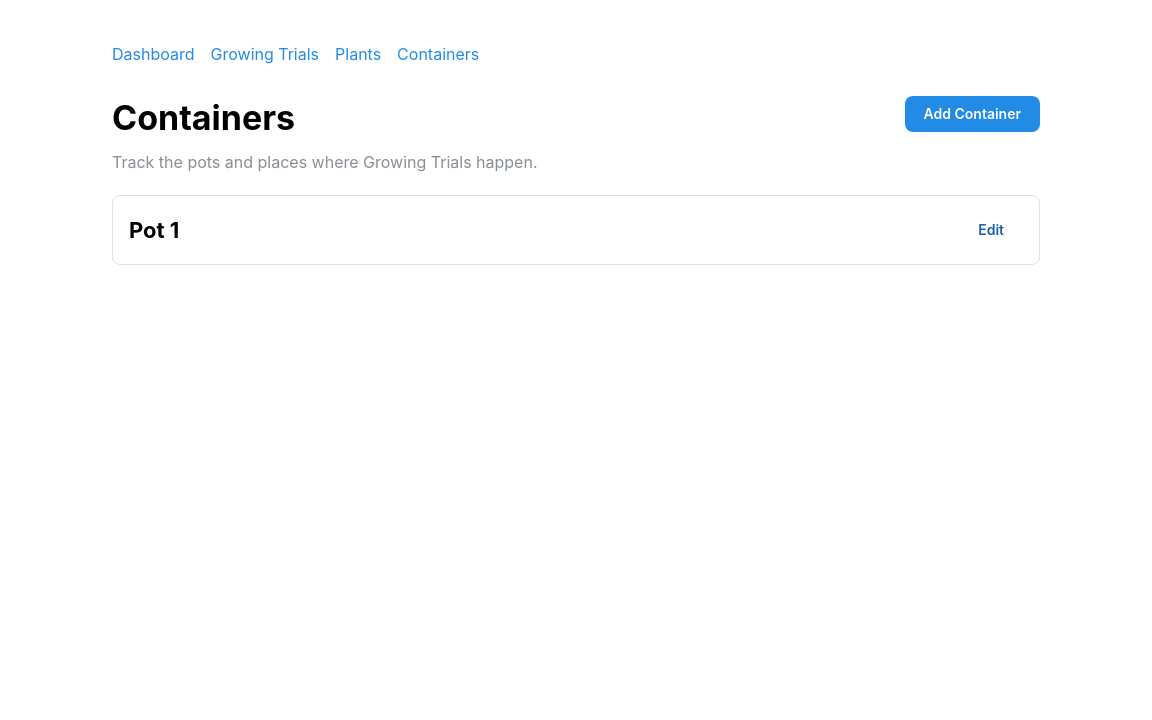
ContainersPage › opens the edit modal with the selected Container name
The image size is (1152, 720).
Check: the heading "Pot 1" is shown, box [129,215,179,245]
Click the button with aria-label "Edit Pot 1" at [991, 230], box [959,212,1023,248]
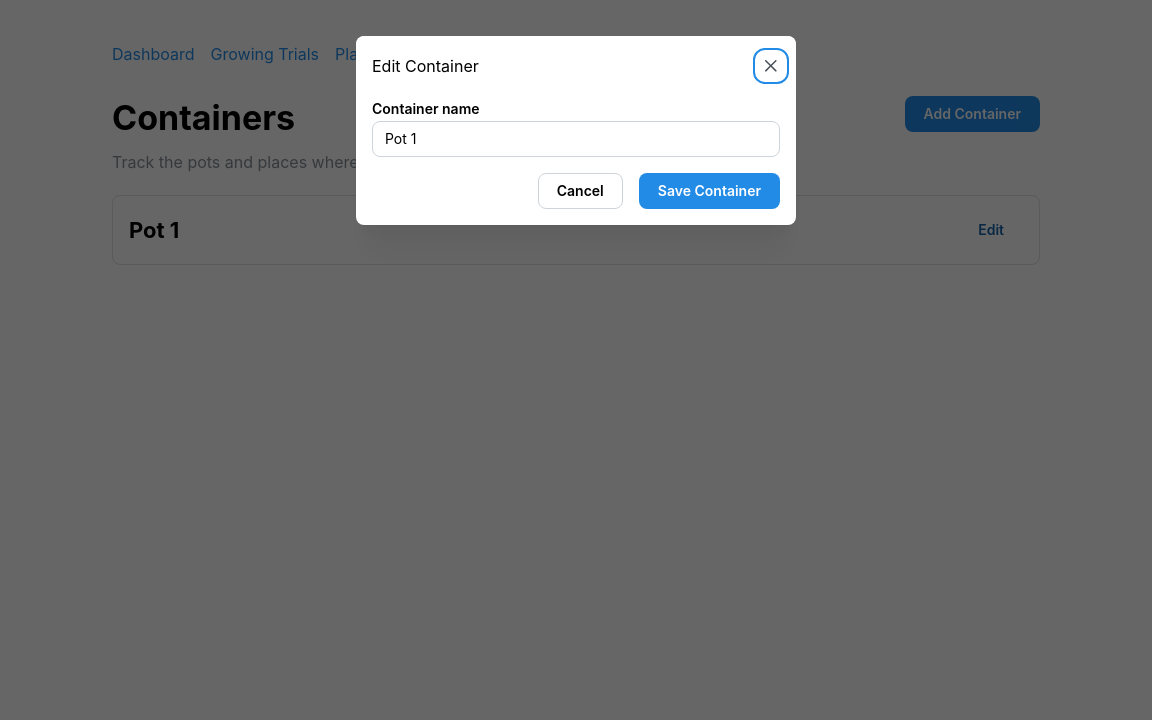
Check: the heading "Edit Container" is shown, box [372,58,479,74]
Check: the field showing "Pot 1" is shown, box [372,121,780,157]
